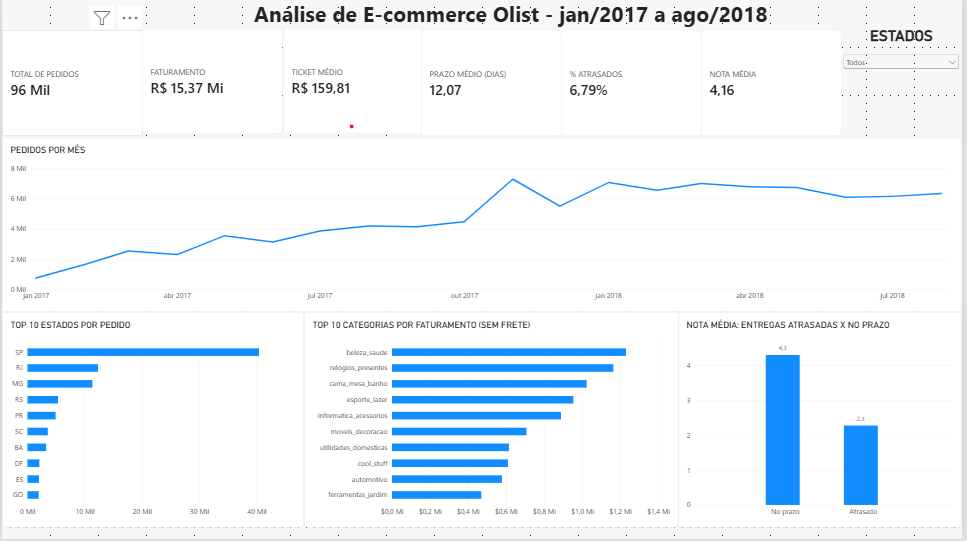

Layout of this report page (visuals, bound fields, positions):
{"tool":"powerbi","page":{"name":"Página 1","canvas":[1920,1080],"ordinal":0},"visuals":[{"type":"cardVisual","fields":{"Data":["pedidos.TOTAL DE PEDIDOS"]},"box":[0,61.7,281,212.6],"z":0},{"type":"cardVisual","fields":{"Data":["pagamentos.FATURAMENTO"]},"box":[280.6,57.4,281,212],"z":1000},{"type":"cardVisual","fields":{"Data":["pagamentos.TICKET MEDIO"]},"box":[561.3,57.4,281,212],"z":2000},{"type":"cardVisual","fields":{"Data":["pedidos.PRAZO MEDIO (DIAS)"]},"box":[837.6,61.7,281,212],"z":3000},{"type":"cardVisual","fields":{"Data":["pedidos.% ATRASADOS"]},"box":[1118.3,61.7,281,212],"z":4000},{"type":"cardVisual","fields":{"Data":["pedidos.NOTA MEDIA"]},"box":[1398.9,61.7,281,212],"z":5000},{"type":"lineChart","title":"PEDIDOS POR MÊS","fields":{"Category":["pedidos.mes_compra.Variação.Hierarquia de datas.Ano","pedidos.mes_compra.Variação.Hierarquia de datas.Trimestre","pedidos.mes_compra.Variação.Hierarquia de datas.Mês","pedidos.mes_compra.Variação.Hierarquia de datas.Dia"],"Y":["pedidos.TOTAL DE PEDIDOS"]},"box":[0,275.2,1920,349.9],"z":6000},{"type":"clusteredBarChart","title":"TOP 10 ESTADOS POR PEDIDO","fields":{"Category":["pedidos.estado"],"Y":["pedidos.TOTAL DE PEDIDOS"]},"box":[0,625.1,603.7,430.9],"z":7000},{"type":"clusteredColumnChart","title":"NOTA MÉDIA: ENTREGAS ATRASADAS X NO PRAZO","fields":{"Category":["pedidos.situacao_entrega"],"Y":["pedidos.NOTA MEDIA"]},"box":[1352.5,625.1,567.5,430.9],"z":8000},{"type":"slicer","title":"ESTADOS","fields":{"Values":["pedidos.estado"]},"box":[1678.9,55.5,241.1,132.3],"z":9000},{"type":"textbox","box":[446.5,0,1143.8,112.7],"z":10000},{"type":"clusteredBarChart","title":"TOP 10 CATEGORIAS POR FATURAMENTO (SEM FRETE)","fields":{"Category":["itens.categoria"],"Y":["itens.FATURAMENTO PRODUTOS"]},"box":[603.7,625.1,748.8,430.9],"z":11000}]}

Visuals, with their boxes in screenshot pixels (x1, y1, x2, y2), scaled from the page's 1920x1080 canvas onto the 967x541 screenshot:
cardVisual - pedidos.TOTAL DE PEDIDOS: bbox(0, 31, 142, 137)
cardVisual - pagamentos.FATURAMENTO: bbox(141, 29, 283, 135)
cardVisual - pagamentos.TICKET MEDIO: bbox(283, 29, 424, 135)
cardVisual - pedidos.PRAZO MEDIO (DIAS): bbox(422, 31, 563, 137)
cardVisual - pedidos.% ATRASADOS: bbox(563, 31, 705, 137)
cardVisual - pedidos.NOTA MEDIA: bbox(705, 31, 846, 137)
"PEDIDOS POR MÊS" lineChart: bbox(0, 138, 966, 313)
"TOP 10 ESTADOS POR PEDIDO" clusteredBarChart: bbox(0, 313, 304, 529)
"NOTA MÉDIA: ENTREGAS ATRASADAS X NO PRAZO" clusteredColumnChart: bbox(681, 313, 966, 529)
"ESTADOS" slicer: bbox(846, 28, 966, 94)
textbox: bbox(225, 0, 801, 56)
"TOP 10 CATEGORIAS POR FATURAMENTO (SEM FRETE)" clusteredBarChart: bbox(304, 313, 681, 529)
